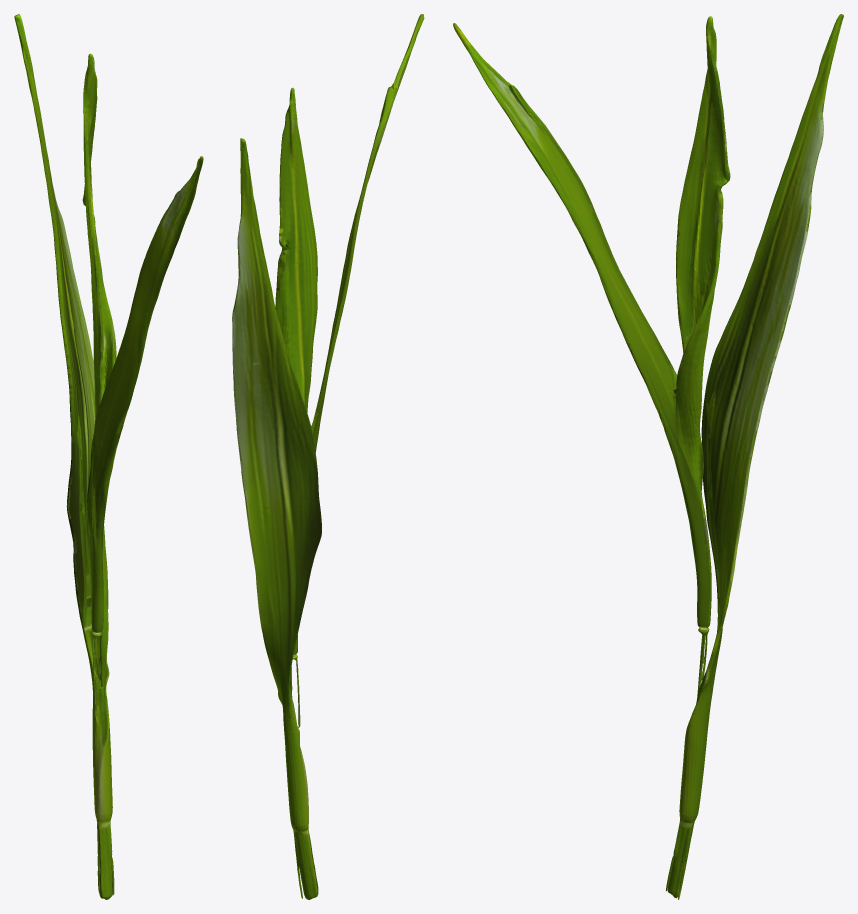
Rendered from tripo_convert_07f0ef8c-163b-4724-8d41-07884c4945ba.obj.
3 views of the same model, side by side, from view 1: azimuth 30°, elevation 25°; view 2: azimuth 150°, elevation 25°; view 3: azimuth 270°, elevation 25° (orthographic). The views are drawn at different scales.
Visible parts, largest first — view 1: tripo_node_07f0ef8c-163b-4724-8d41-07884c4945ba; view 2: tripo_node_07f0ef8c-163b-4724-8d41-07884c4945ba; view 3: tripo_node_07f0ef8c-163b-4724-8d41-07884c4945ba.
Part boxes in pixels (x1,y1,x2,y2): tripo_node_07f0ef8c-163b-4724-8d41-07884c4945ba: [14, 14, 203, 899]; tripo_node_07f0ef8c-163b-4724-8d41-07884c4945ba: [232, 14, 424, 899]; tripo_node_07f0ef8c-163b-4724-8d41-07884c4945ba: [453, 14, 843, 899].
Size of the model in its own units: 0.0725 by 0.9993 by 0.4017.
Materials: 1 (1 with a texture image).
